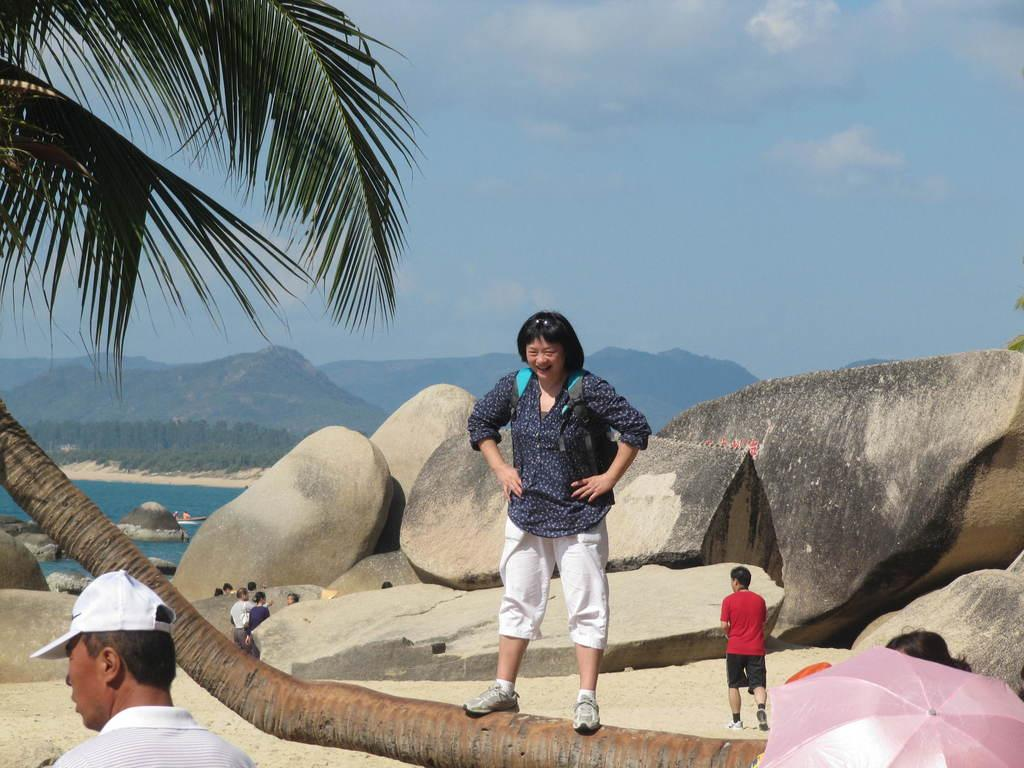Hat: (30, 567, 170, 661)
